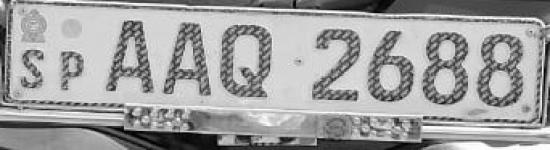2: (310, 26, 365, 106)
6: (365, 24, 417, 112)
8: (418, 27, 475, 114), (478, 28, 528, 115)
A: (216, 14, 278, 103), (159, 14, 216, 100), (100, 16, 158, 96)
P: (52, 49, 88, 94)
S: (17, 46, 50, 95)
